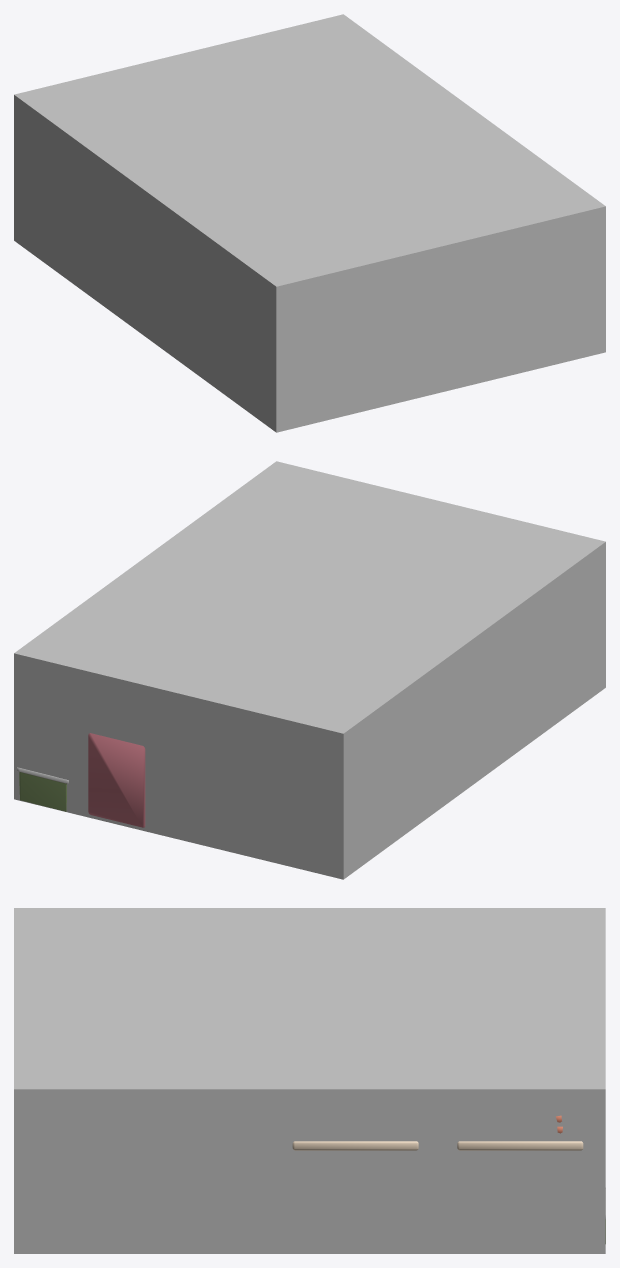
File: MODEL_Bakery.fbx
3 renders of one model, top to bottom at view 1: azimuth 30°, elevation 25°; view 2: azimuth 150°, elevation 25°; view 3: azimuth 270°, elevation 25°, orthographic. The views are drawn at different scales.
Parts seen in each view (by area): view 1: wall; view 2: wall, Fridge, Sink and benchtop; view 3: wall, Shevles.
Boxes of the visible parts, left/top/right/bottom form: wall: left=14, top=14, right=605, bottom=432; wall: left=14, top=461, right=605, bottom=879; Fridge: left=88, top=733, right=145, bottom=827; Sink and benchtop: left=16, top=767, right=68, bottom=811; wall: left=14, top=908, right=605, bottom=1253; Shevles: left=292, top=1141, right=583, bottom=1150.
Size of the model in its own units: 1221 by 516 by 1680.
